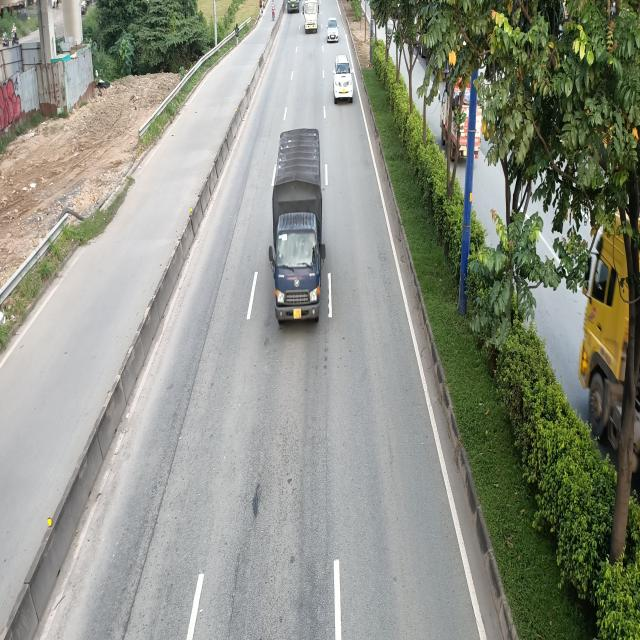car: (333, 54, 355, 103), (326, 18, 338, 42)
truck: (267, 128, 326, 326)
